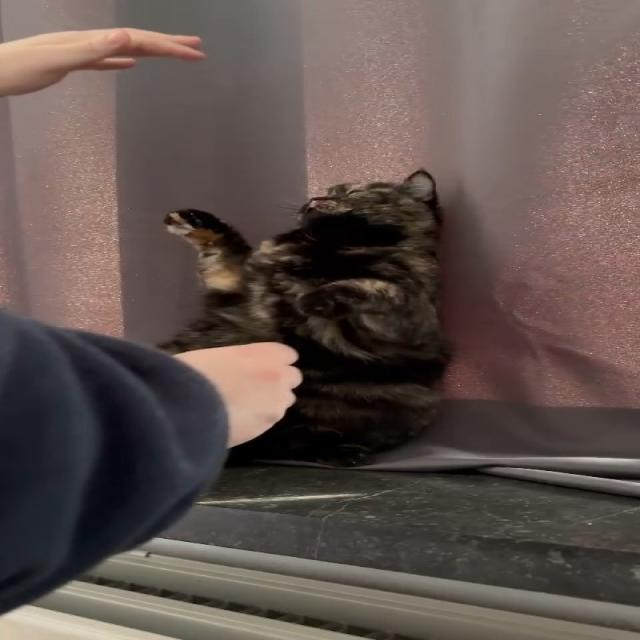authorized: (154, 167, 454, 468)
